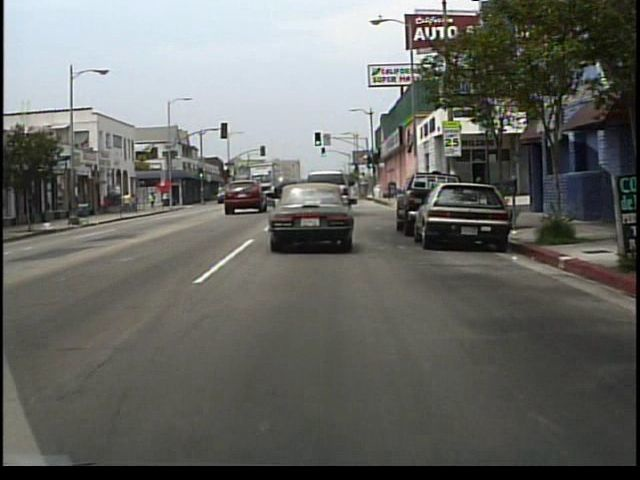person: (129, 192, 138, 215), (149, 190, 158, 210), (137, 193, 143, 213)
